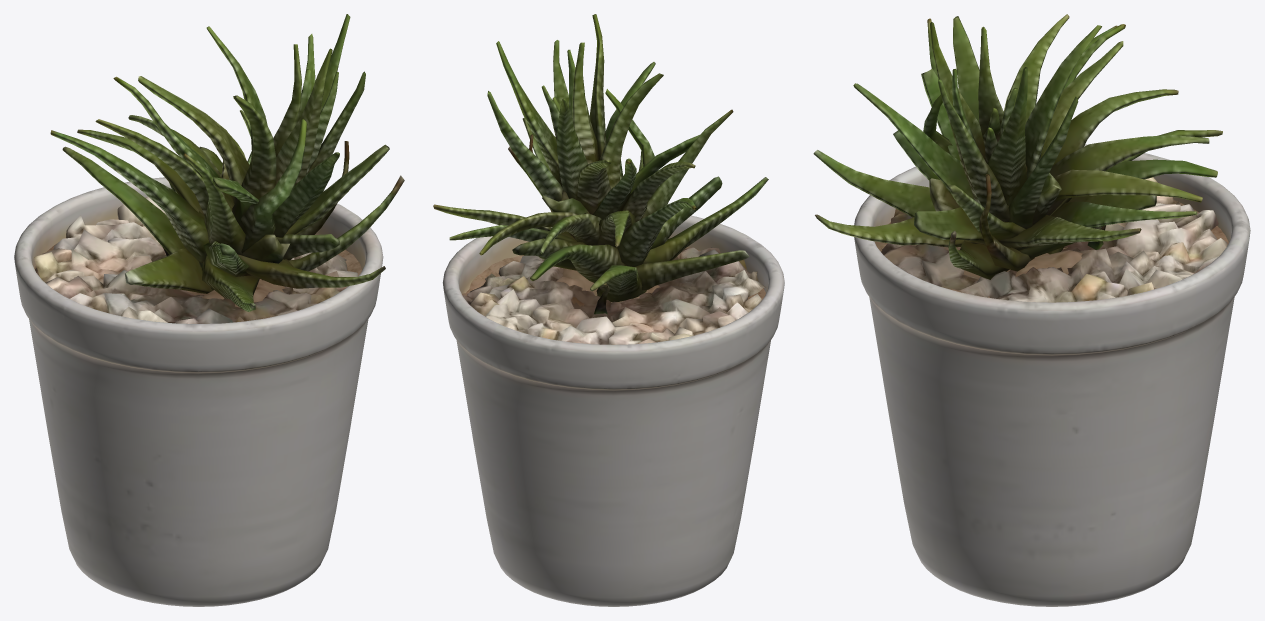
Rendered from potted_plant_04.glb.
The picture shows the model from 3 angles, left to right: view 1: azimuth 30°, elevation 25°; view 2: azimuth 150°, elevation 25°; view 3: azimuth 270°, elevation 25°; orthographic projection. The views are drawn at different scales.
Parts seen in each view (by area): view 1: potted_plant_04_pot, potted_plant_04_plant, potted_plant_04_ground, potted_plant_04_dirt; view 2: potted_plant_04_pot, potted_plant_04_plant, potted_plant_04_ground, potted_plant_04_dirt; view 3: potted_plant_04_pot, potted_plant_04_plant, potted_plant_04_ground, potted_plant_04_dirt.
Boxes of the visible parts, <box> form: potted_plant_04_pot: <box>14,177,383,606</box>; potted_plant_04_plant: <box>50,14,404,311</box>; potted_plant_04_ground: <box>34,196,357,323</box>; potted_plant_04_dirt: <box>34,238,362,307</box>; potted_plant_04_pot: <box>442,215,784,606</box>; potted_plant_04_plant: <box>433,14,768,314</box>; potted_plant_04_ground: <box>463,247,765,344</box>; potted_plant_04_dirt: <box>462,247,765,306</box>; potted_plant_04_pot: <box>854,144,1250,606</box>; potted_plant_04_plant: <box>813,14,1222,279</box>; potted_plant_04_ground: <box>881,177,1227,302</box>; potted_plant_04_dirt: <box>875,200,1228,297</box>.
Size of the model in its own units: 0.1679 by 0.2675 by 0.1848.
1 material, 1 textured.
